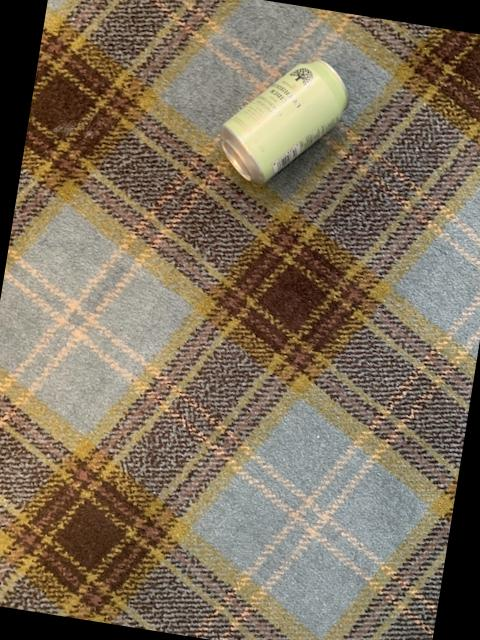metal: (222, 59, 349, 181)
